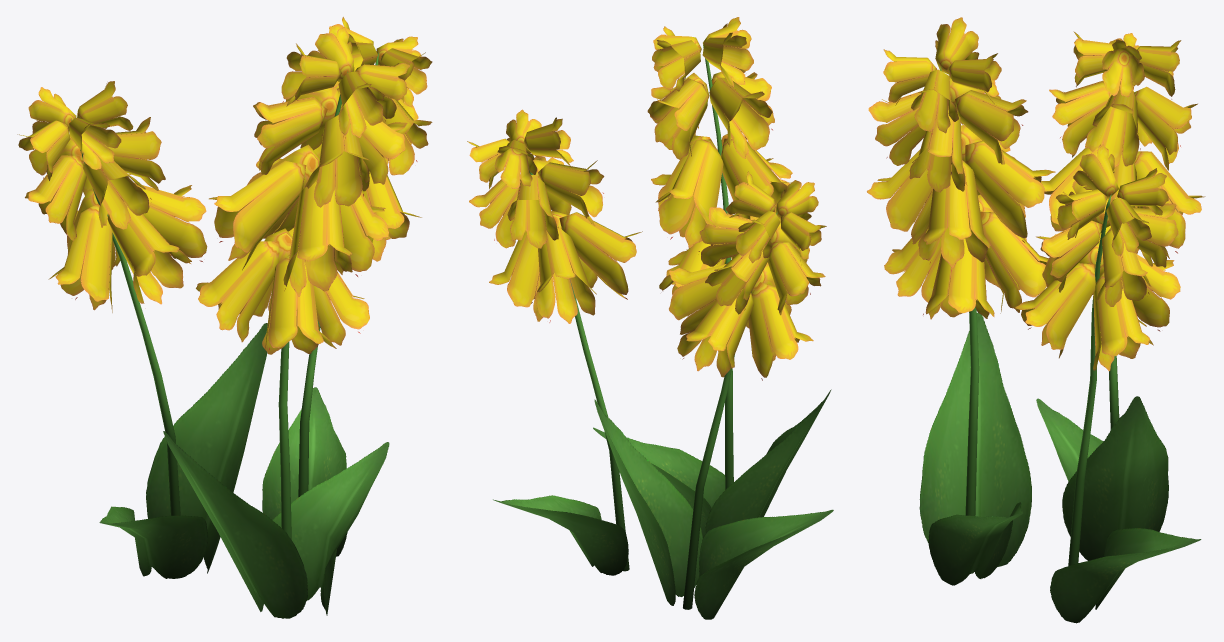
File: Flower_4_Group.gltf
3 views of the same model, side by side, from view 1: azimuth 30°, elevation 25°; view 2: azimuth 150°, elevation 25°; view 3: azimuth 270°, elevation 25° (orthographic). The views are drawn at different scales.
Visible parts, largest first — view 1: Flower_4_Group; view 2: Flower_4_Group; view 3: Flower_4_Group.
Boxes of the visible parts, left/top/right/bottom form: Flower_4_Group: left=17, top=17, right=432, bottom=618; Flower_4_Group: left=467, top=17, right=833, bottom=619; Flower_4_Group: left=867, top=17, right=1205, bottom=623.
Size of the model in its own units: 1.78 by 2.49 by 1.37.
Materials: 2 (2 with a texture image).
